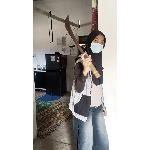Golok: (58, 8, 104, 68)
